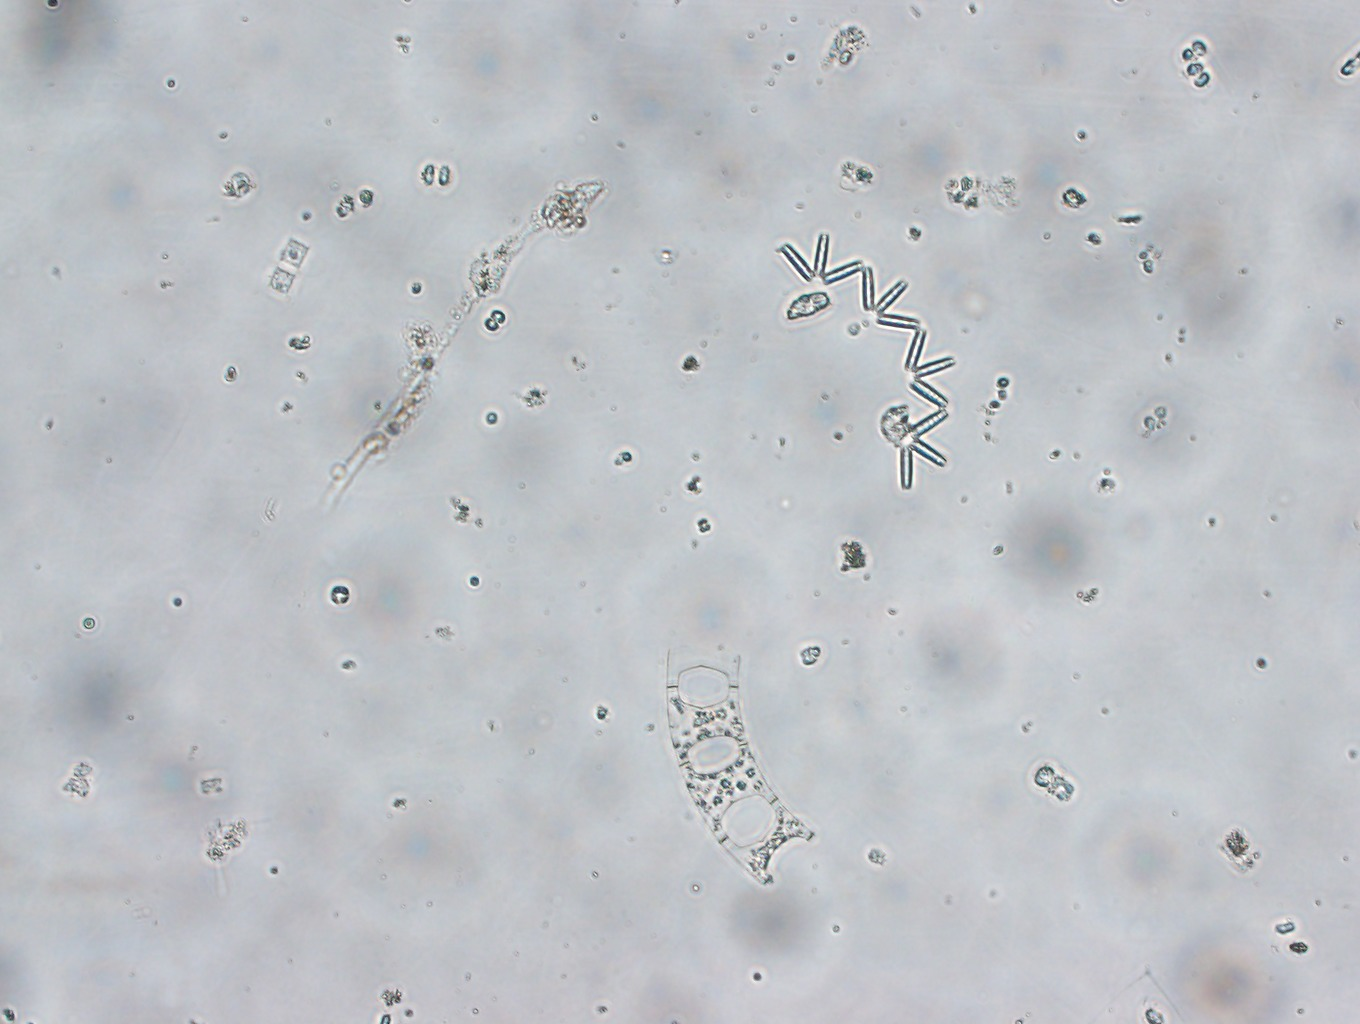eucampia: (650, 632, 817, 892)
thalassionema nitzschioides: (769, 227, 957, 495)
